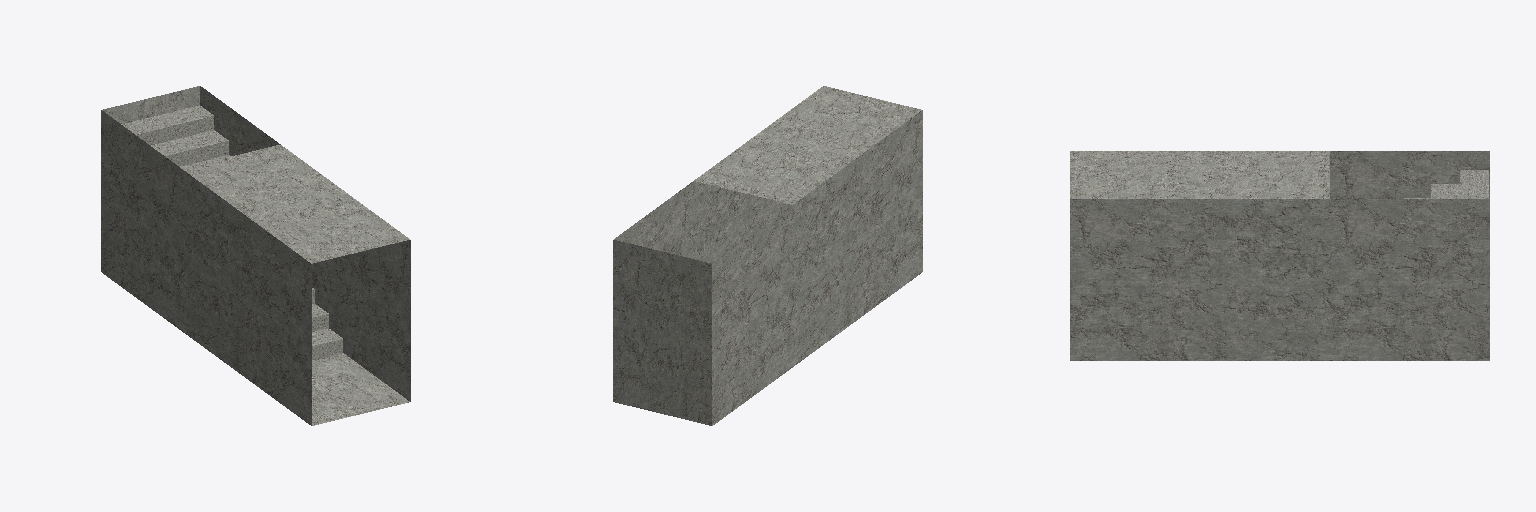
3 views of the same model, side by side, from view 1: azimuth 30°, elevation 25°; view 2: azimuth 150°, elevation 25°; view 3: azimuth 270°, elevation 25° (orthographic).
Parts seen in each view (by area): view 1: pCube11, pCube10, pCube9, pCube1; view 2: pCube11; view 3: pCube11, pCube10.
Part boxes in pixels (x1,y1,x2,y2): pCube11: (101,86,410,425); pCube10: (121,105,213,145); pCube9: (151,130,228,166); pCube1: (312,328,342,360); pCube11: (613,86,922,425); pCube11: (1070,151,1489,360); pCube10: (1460,170,1488,198).
Bounding box in the file's own units: 3.98 × 6.24 × 14.63.
1 materials, 1 textured.